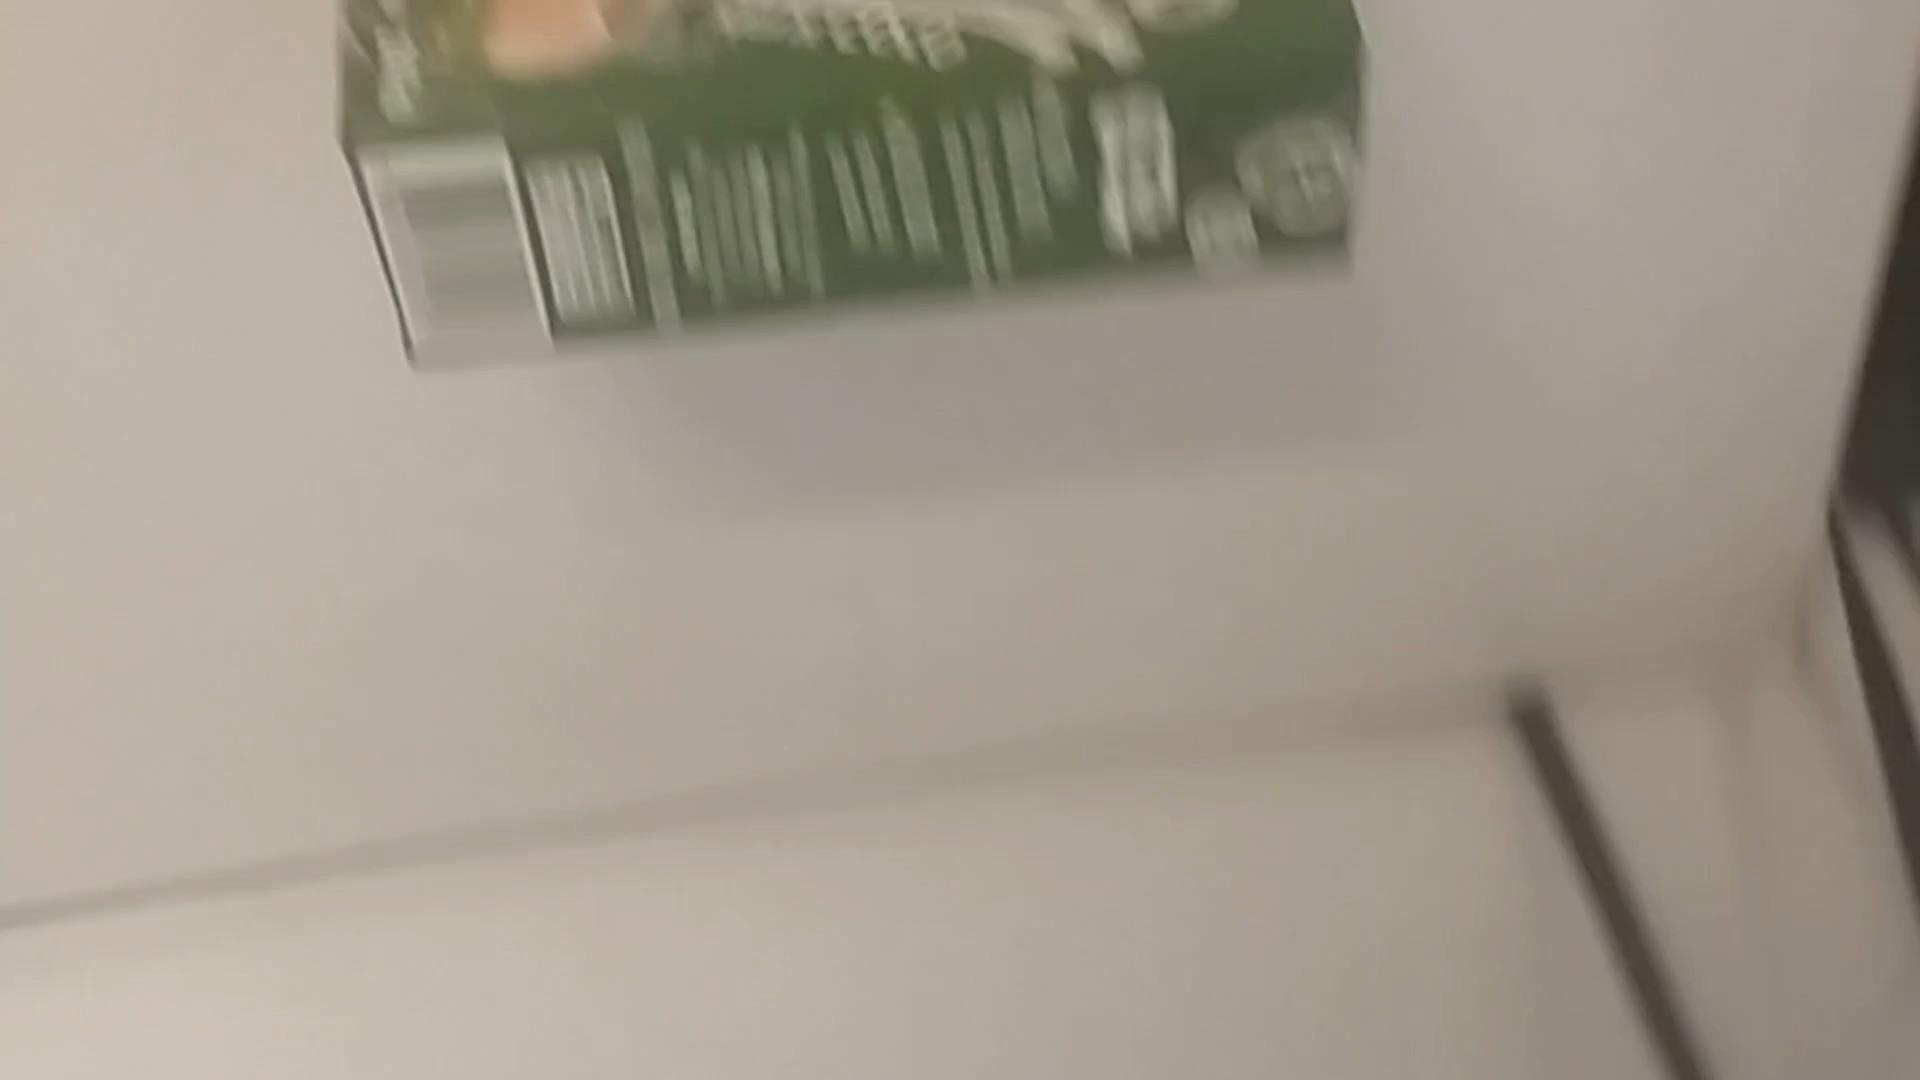coco: (332, 0, 1379, 355)
